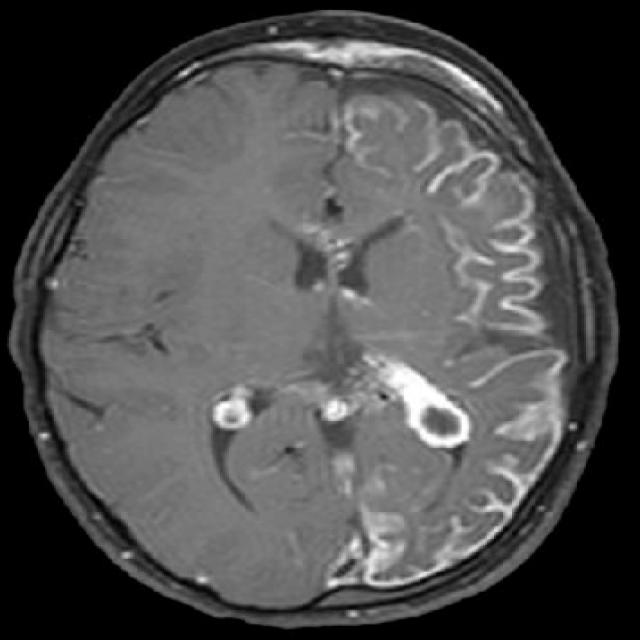tumor: (341, 341, 471, 451)
